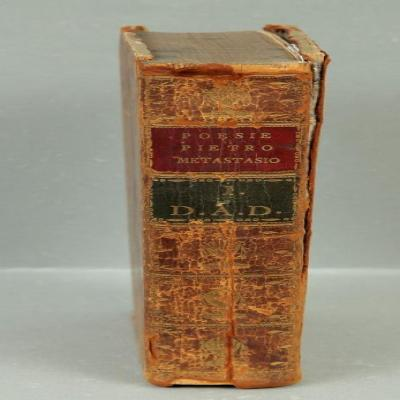rare_books: (120, 24, 331, 391)
